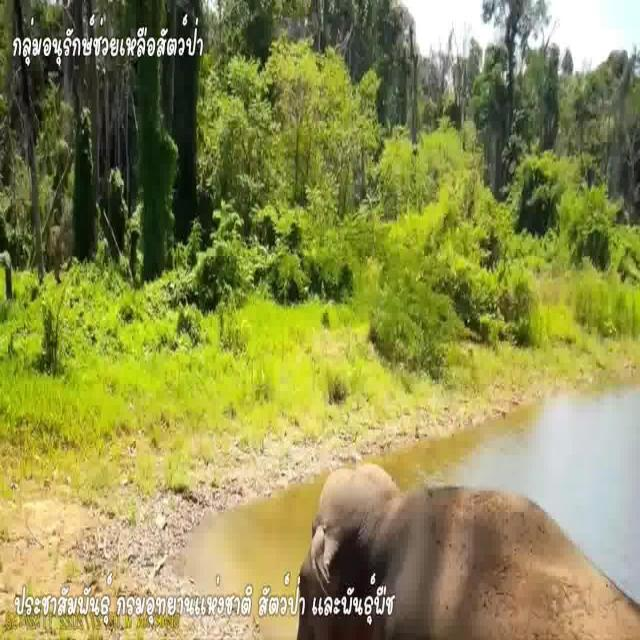Elephant: (303, 460, 606, 634)
